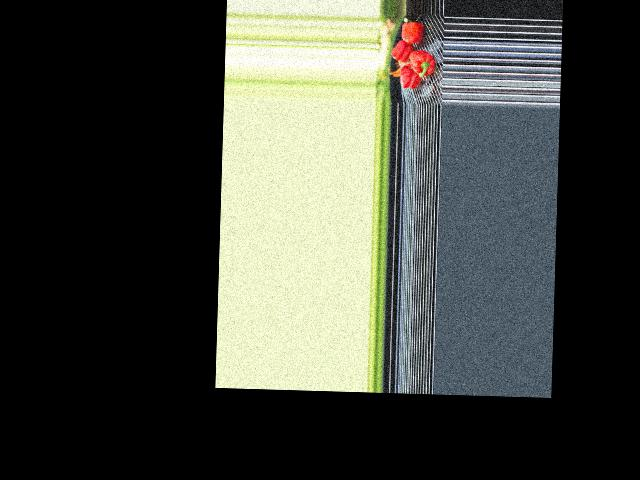bell_pepper: (398, 63, 420, 89)
